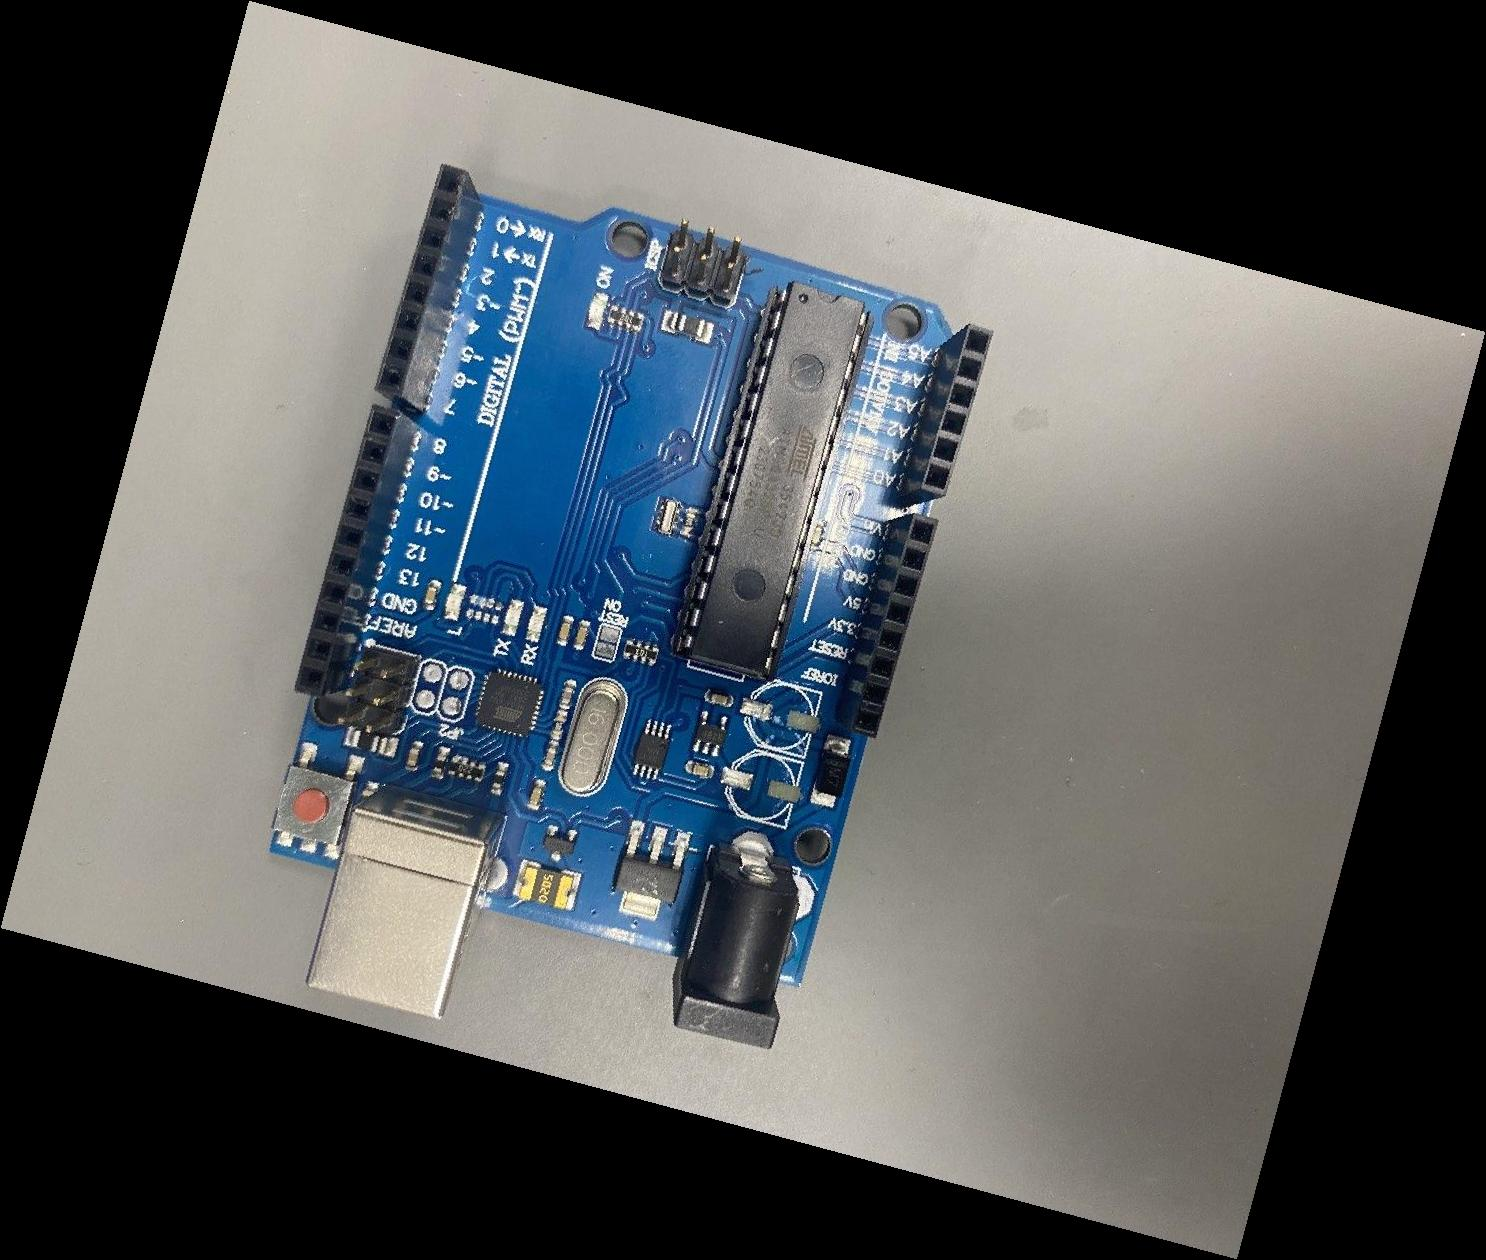ATmega328 chip: (672, 280, 875, 684)
Arduino board: (269, 164, 994, 1049)
USB: (305, 782, 507, 1021)
pins: (292, 400, 419, 697), (372, 164, 485, 414), (832, 512, 937, 739), (897, 322, 995, 507)
resistor: (487, 304, 765, 335), (502, 639, 780, 667), (329, 755, 606, 784)
